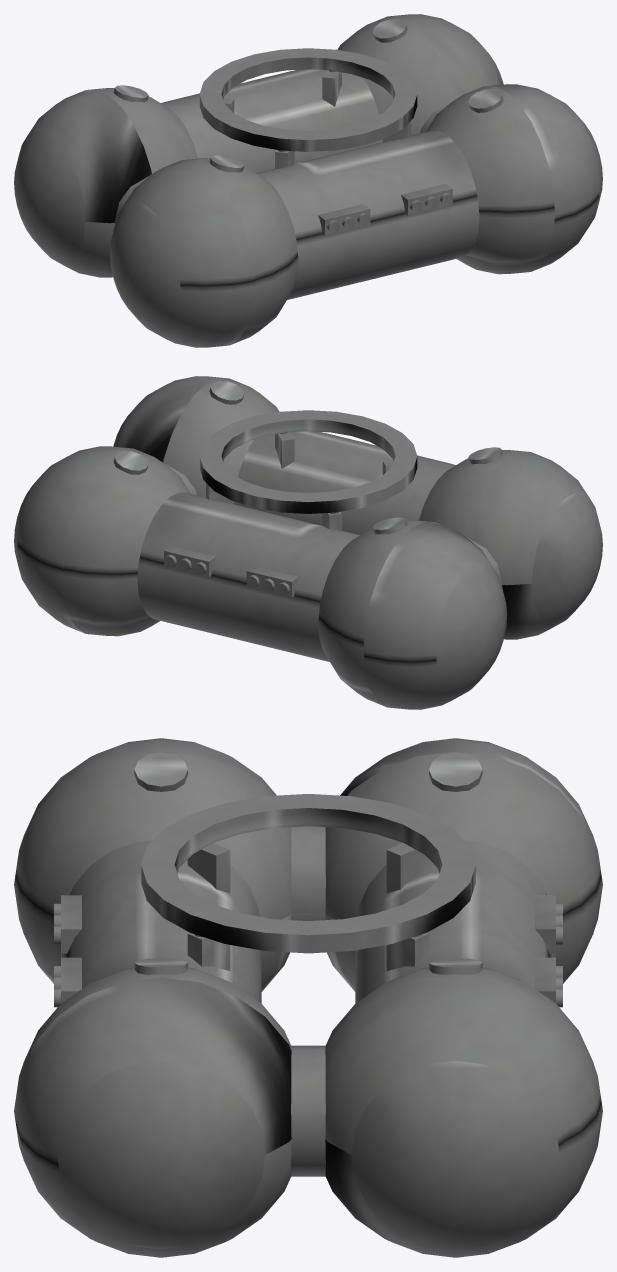
The model's file is ye85_fuel_tank_s0_1.obj.
The picture shows the model from 3 angles, top to bottom: view 1: azimuth 30°, elevation 25°; view 2: azimuth 150°, elevation 25°; view 3: azimuth 270°, elevation 25°; orthographic projection. The views are drawn at different scales.
Visible parts, largest first — view 1: 1; view 2: 1; view 3: 1.
Boxes of the visible parts, left/top/right/bottom form: 1: left=14, top=14, right=602, bottom=347; 1: left=14, top=376, right=602, bottom=709; 1: left=14, top=738, right=602, bottom=1257.
Bounding box in the file's own units: 1.55 × 0.5596 × 1.1.
